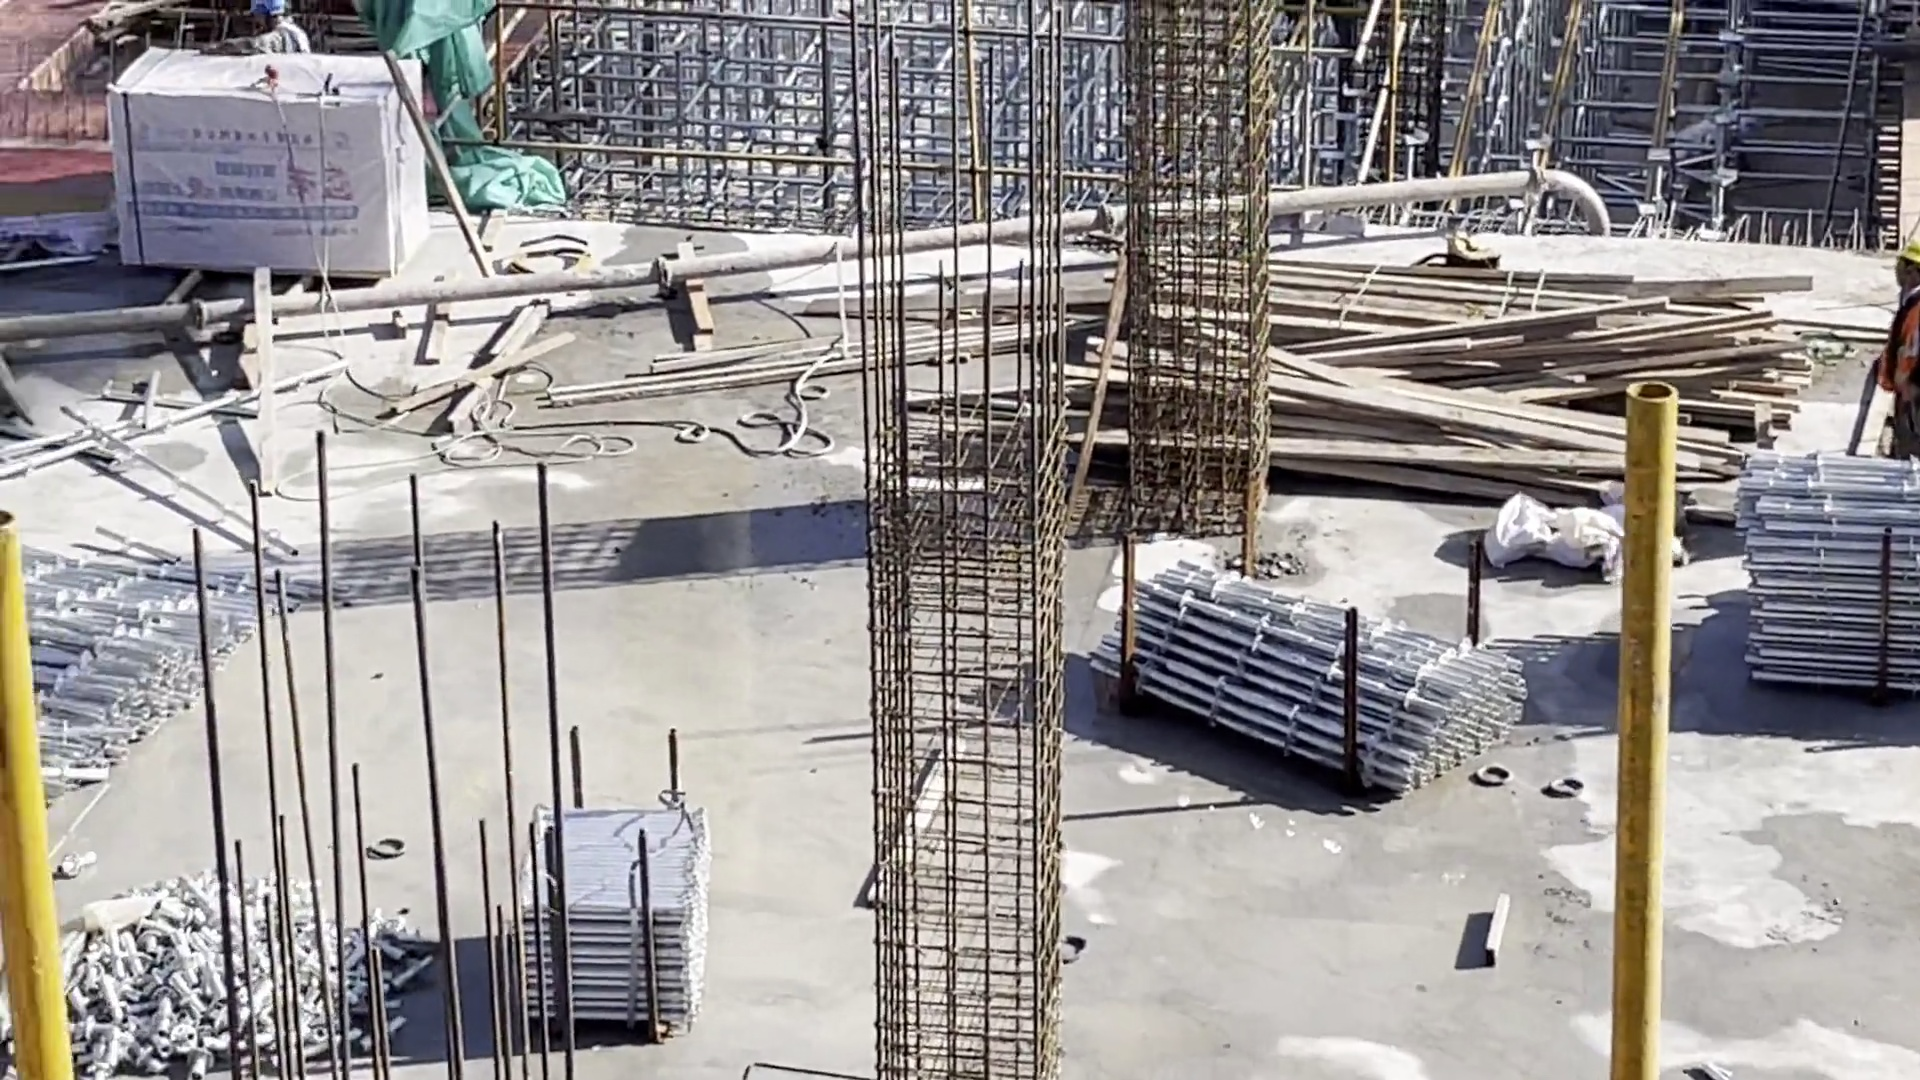helmet: (1893, 239, 1920, 267)
person: (1874, 225, 1920, 472)
scaffold: (1096, 561, 1528, 816), (53, 869, 431, 1080), (7, 539, 284, 797), (1737, 439, 1920, 713), (519, 806, 714, 1035)
vest: (1881, 290, 1920, 404)
wood: (1265, 256, 1810, 524)
